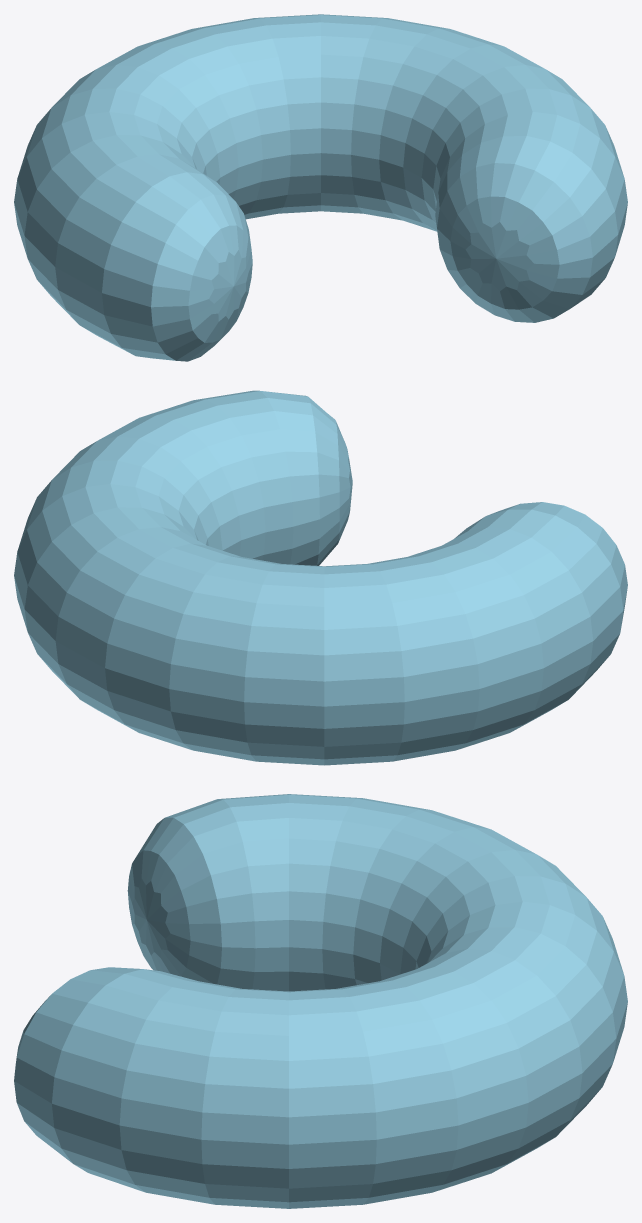
Rendered from neck pillow 1.fbx.
3 renders of one model, top to bottom at view 1: azimuth 30°, elevation 25°; view 2: azimuth 150°, elevation 25°; view 3: azimuth 270°, elevation 25°, orthographic. The views are drawn at different scales.
Parts seen in each view (by area): view 1: neck pillows.001; view 2: neck pillows.001; view 3: neck pillows.001.
Boxes of the visible parts, x1,y1,x2,y2 form: neck pillows.001: (14, 14, 627, 361); neck pillows.001: (14, 390, 627, 765); neck pillows.001: (14, 794, 627, 1208).
Bounding box in the file's own units: 147 × 47.77 × 133.
